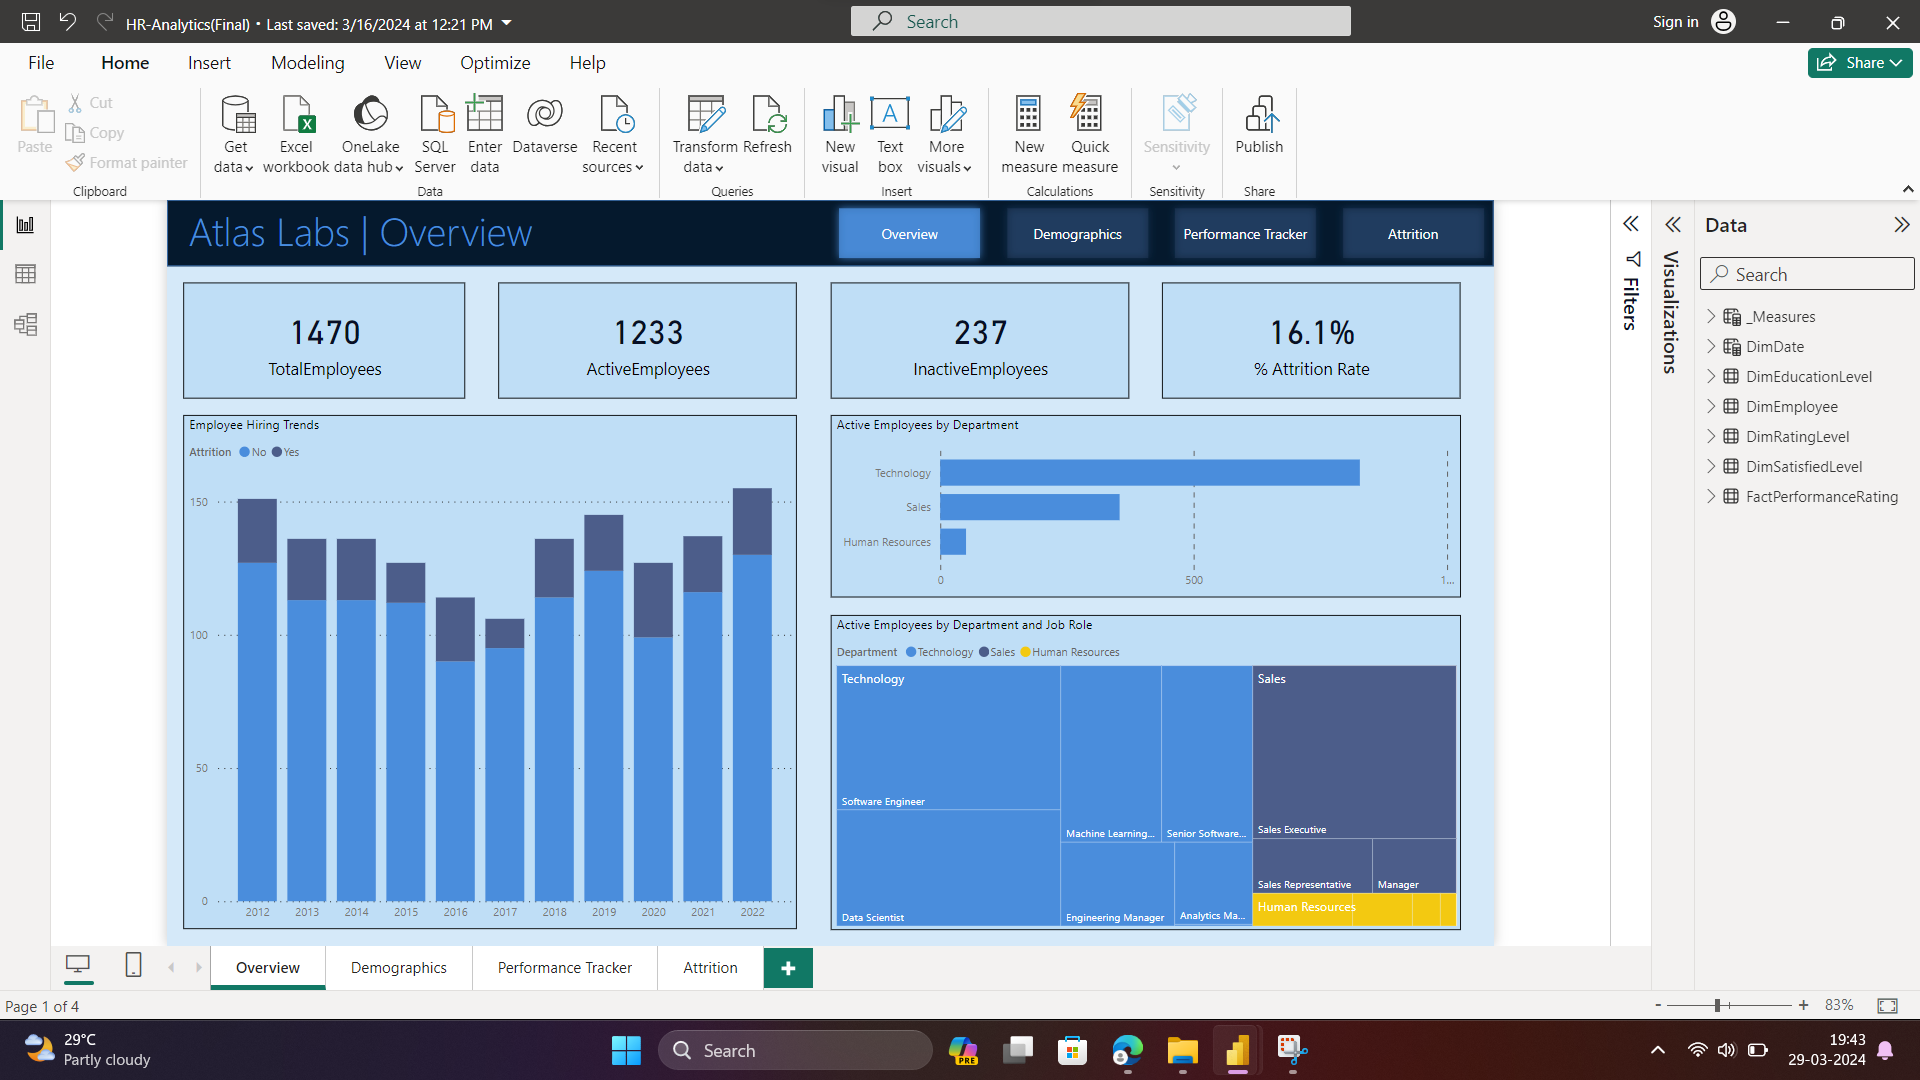

The page's visual inventory and layout, read from the dashboard file:
{"tool":"powerbi","page":{"name":"Overview","canvas":[1280,720],"ordinal":0},"visuals":[{"type":"card","fields":{"Values":["_Measures.TotalEmployees"]},"box":[16,80,272,112],"z":0},{"type":"card","fields":{"Values":["_Measures.ActiveEmployees"]},"box":[320,80,288,112],"z":1000},{"type":"card","fields":{"Values":["_Measures.InactiveEmployees"]},"box":[640,80,288,112],"z":2000},{"type":"card","fields":{"Values":["_Measures.% Attrition Rate"]},"box":[960,80,288,112],"z":3000},{"type":"columnChart","title":"Employee Hiring Trends","fields":{"Category":["DimDate.Date.Variation.Date Hierarchy.Year","DimDate.Date.Variation.Date Hierarchy.Quarter","DimDate.Date.Variation.Date Hierarchy.Month","DimDate.Date.Variation.Date Hierarchy.Day"],"Y":["_Measures.TotalEmployeesDate"],"Series":["DimEmployee.Attrition"]},"box":[16,208,592,496],"z":4000},{"type":"clusteredBarChart","title":"Active Employees by Department","fields":{"Category":["DimEmployee.Department"],"Y":["_Measures.ActiveEmployees"]},"box":[640,208,608,176],"z":5000},{"type":"treemap","title":"Active Employees by Department and Job Role","fields":{"Values":["_Measures.ActiveEmployees"],"Group":["DimEmployee.Department"],"Details":["DimEmployee.JobRole"]},"box":[640,400,608,304],"z":6000},{"type":"shape","box":[0,0,1280,64],"z":7000},{"type":"textbox","box":[16,0,448,64],"z":8000},{"type":"pageNavigator","box":[640,0,640,64],"z":9000}]}

Visuals, with their boxes on the page's 1280x720 design canvas (x1, y1, x2, y2). These are canvas units, not pixel positions in the 1920x1080 screenshot, which may show the page scaled, cropped or inside an application window:
card - _Measures.TotalEmployees: left=16, top=80, right=288, bottom=192
card - _Measures.ActiveEmployees: left=320, top=80, right=608, bottom=192
card - _Measures.InactiveEmployees: left=640, top=80, right=928, bottom=192
card - _Measures.% Attrition Rate: left=960, top=80, right=1248, bottom=192
"Employee Hiring Trends" columnChart: left=16, top=208, right=608, bottom=704
"Active Employees by Department" clusteredBarChart: left=640, top=208, right=1248, bottom=384
"Active Employees by Department and Job Role" treemap: left=640, top=400, right=1248, bottom=704
shape: left=0, top=0, right=1280, bottom=64
textbox: left=16, top=0, right=464, bottom=64
pageNavigator: left=640, top=0, right=1280, bottom=64
